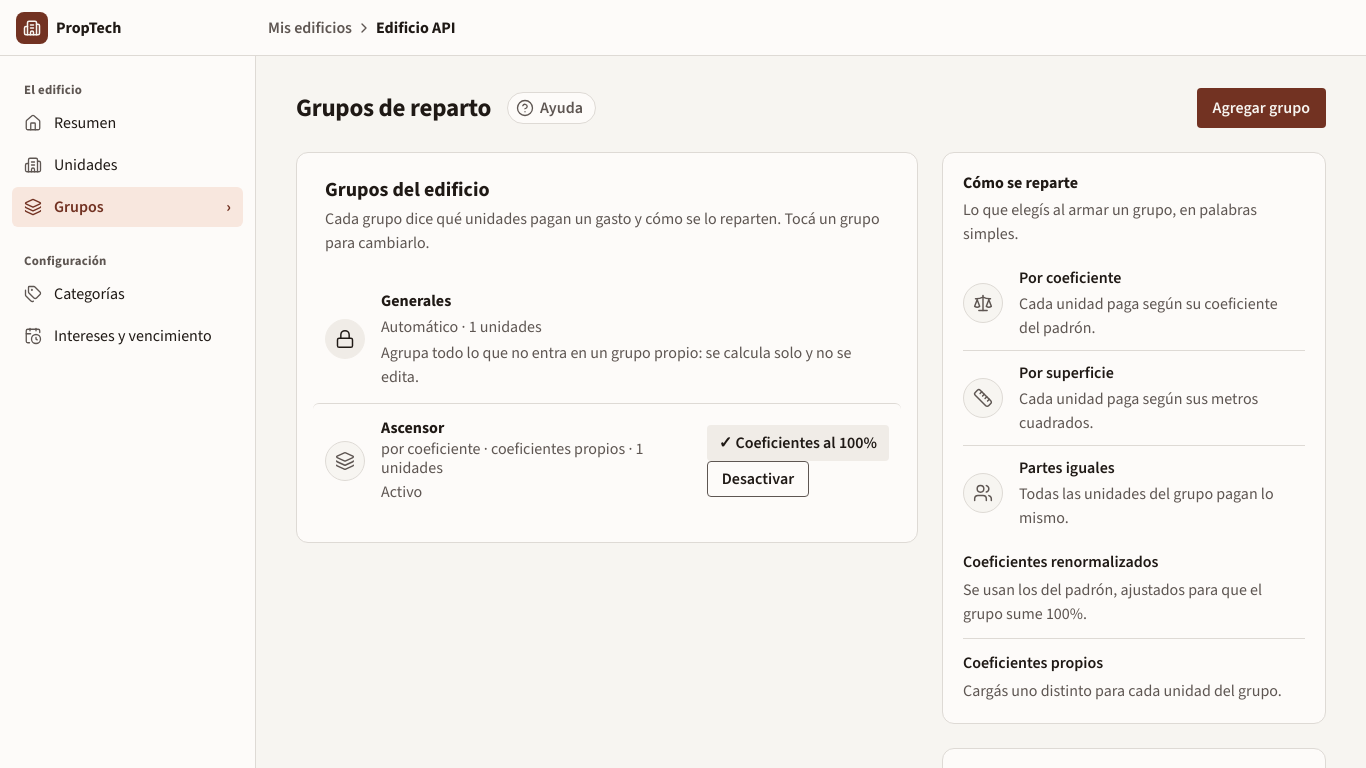
Test: PantallaGrupos › un grupo que no es "Generales" abre el panel de edición al tocarlo
Click the button "Ascensor por coeficiente · coeficientes propios · 1 unidades" at (536, 448), box left=381, top=418, right=691, bottom=478
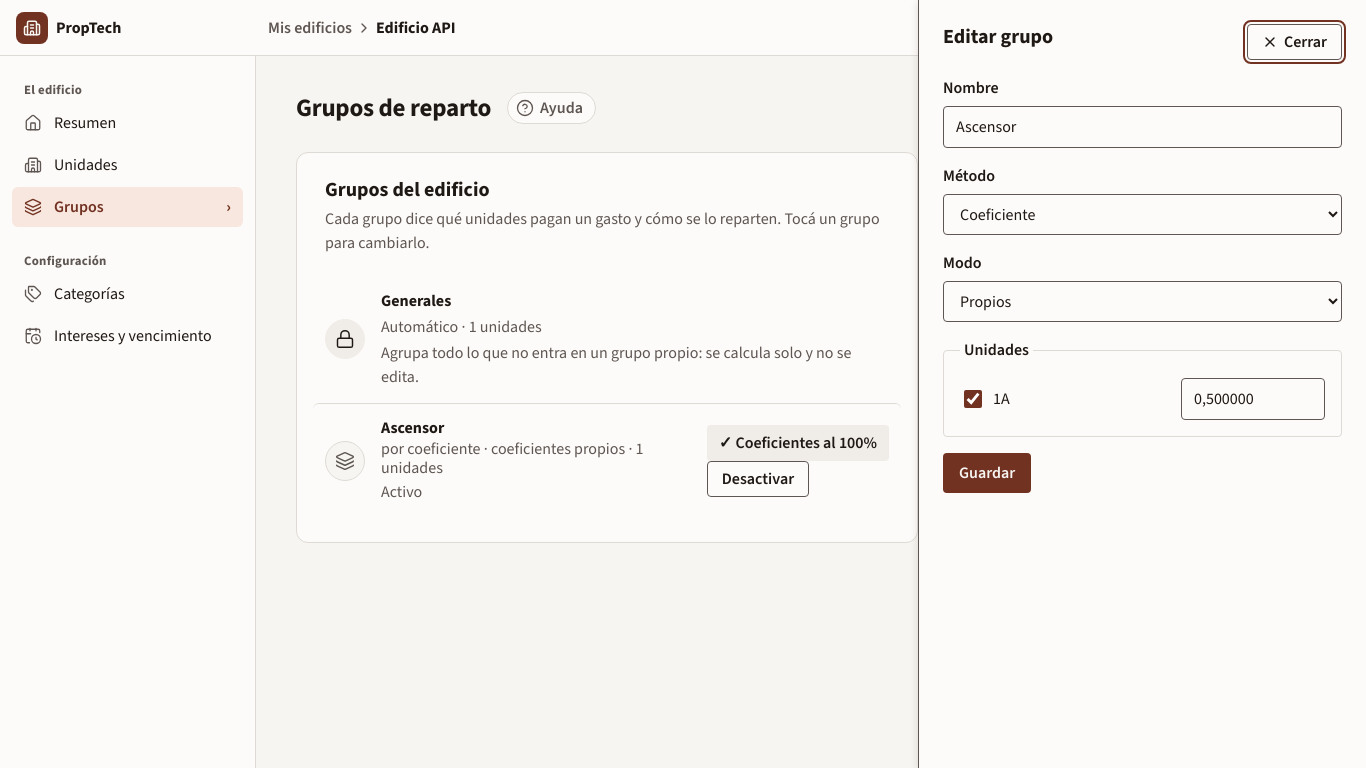
Expected: the field labelled "Nombre" holds "Ascensor", left=943, top=106, right=1342, bottom=148
Expected: the field named "Coeficiente de 1A" holds "0,500000", left=1181, top=378, right=1325, bottom=420
